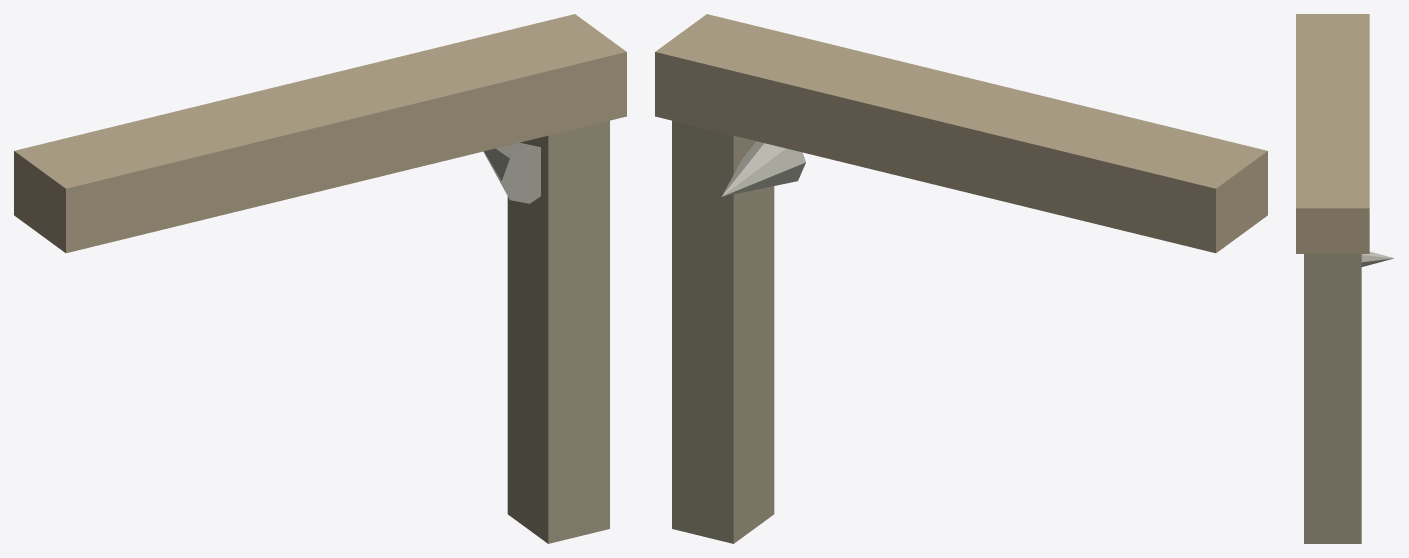
File: temple_spike_gate.glb
3 renders of one model, left to right at view 1: azimuth 30°, elevation 25°; view 2: azimuth 150°, elevation 25°; view 3: azimuth 270°, elevation 25°, orthographic. The views are drawn at different scales.
Parts seen in each view (by area): view 1: arch_top, arch_post, hanging_spike; view 2: arch_top, arch_post, hanging_spike; view 3: arch_top, arch_post, hanging_spike.
Boxes of the visible parts, box(x1,y1,x2,y2) form: arch_top: box(14, 14, 626, 253); arch_post: box(507, 120, 609, 543); hanging_spike: box(483, 142, 540, 203); arch_top: box(655, 14, 1267, 253); arch_post: box(672, 120, 774, 543); hanging_spike: box(721, 141, 805, 196); arch_top: box(1296, 14, 1369, 253); arch_post: box(1304, 254, 1361, 543); hanging_spike: box(1361, 251, 1394, 266).
Bounding box in the file's own units: 2 × 1.63 × 0.43.
